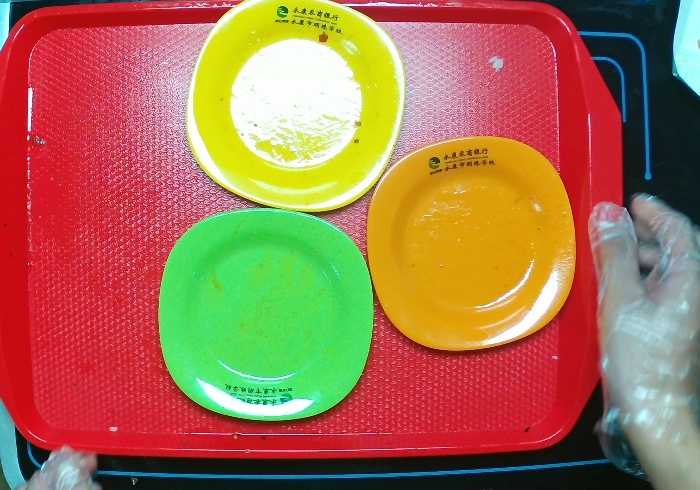YKMZ-Huang_Se_Fang_Die: (182, 1, 413, 233)
YKMZ-Ju_Se_Fang_Die: (363, 132, 580, 359)
YKMZ-Lv_Se_Fang_Die: (154, 202, 383, 424)
